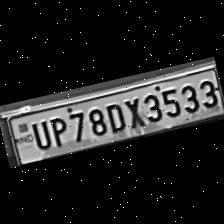3: (136, 88, 162, 124), (194, 74, 220, 110), (174, 79, 200, 114)
5: (157, 83, 183, 118)
7: (62, 105, 90, 144)
8: (82, 102, 109, 140)
D: (101, 97, 128, 134)
P: (44, 111, 70, 148)
U: (25, 116, 52, 152)
X: (120, 92, 146, 130)
